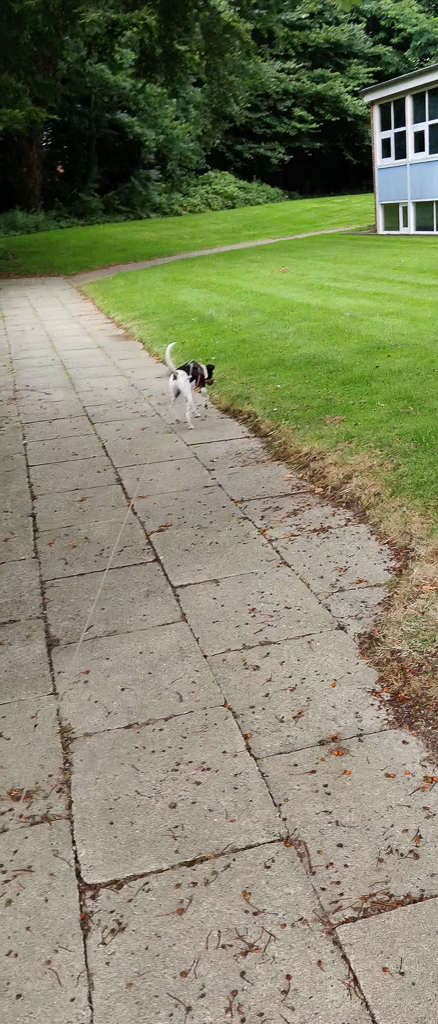Dog: (161, 340, 226, 432)
